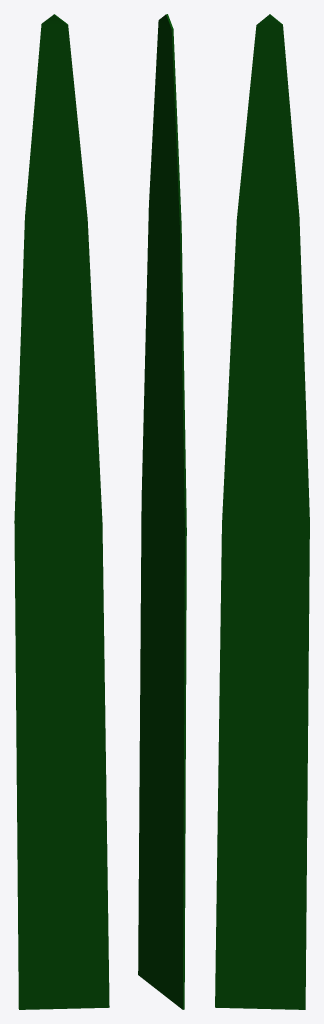
Rendered from Grass Blade 1.fbx.
3 renders of one model, left to right at view 1: azimuth 90°, elevation 25°; view 2: azimuth 210°, elevation 25°; view 3: azimuth 270°, elevation 25°, orthographic.
Parts seen in each view (by area): view 1: Grass_Blade_1; view 2: Grass_Blade_1; view 3: Grass_Blade_1.
Boxes of the visible parts, x1=… form: Grass_Blade_1: x1=14, y1=14, x2=109, y2=1009; Grass_Blade_1: x1=138, y1=14, x2=186, y2=1009; Grass_Blade_1: x1=215, y1=14, x2=309, y2=1009.
Bounding box in the file's own units: 0.000956 × 0.3427 × 0.0296.
Materials: 1 (1 with a texture image).
